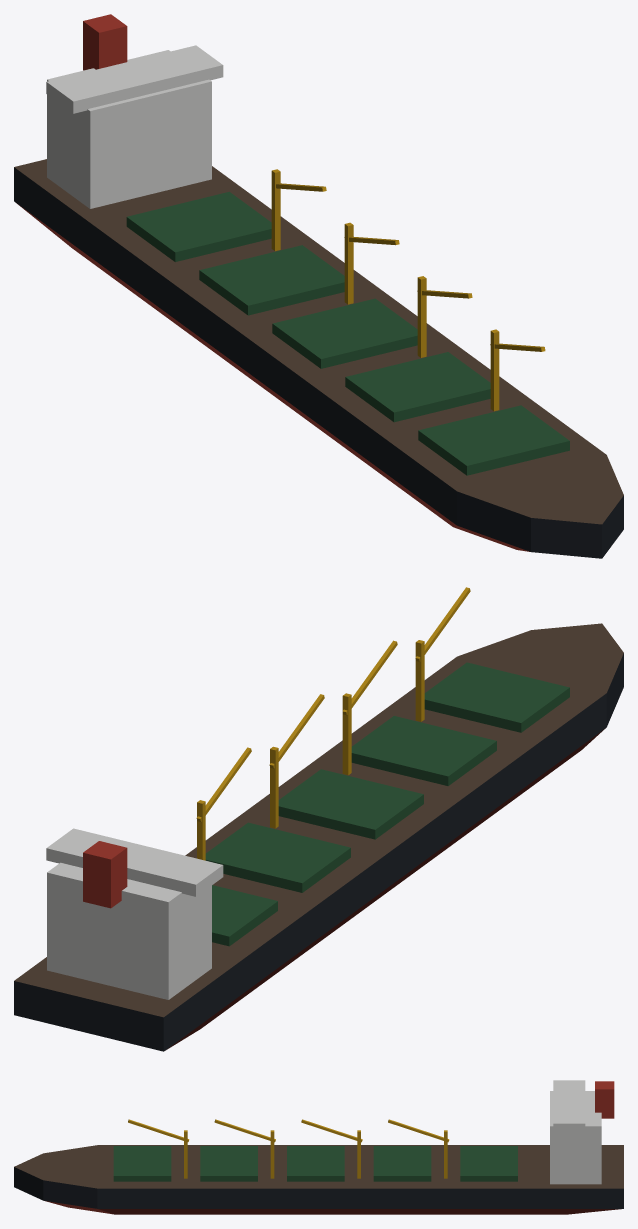
File: ship_cargo.glb
3 renders of one model, top to bottom at view 1: azimuth 30°, elevation 25°; view 2: azimuth 150°, elevation 25°; view 3: azimuth 270°, elevation 25°, orthographic. The views are drawn at different scales.
Visible parts, largest first — view 1: ship_cargo; view 2: ship_cargo; view 3: ship_cargo.
Boxes of the visible parts, x1,y1,x2,y2 form: ship_cargo: (14,14,623,558); ship_cargo: (14,587,623,1051); ship_cargo: (14,1080,623,1214).
Size of the model in its own units: 32 by 38 by 190.
